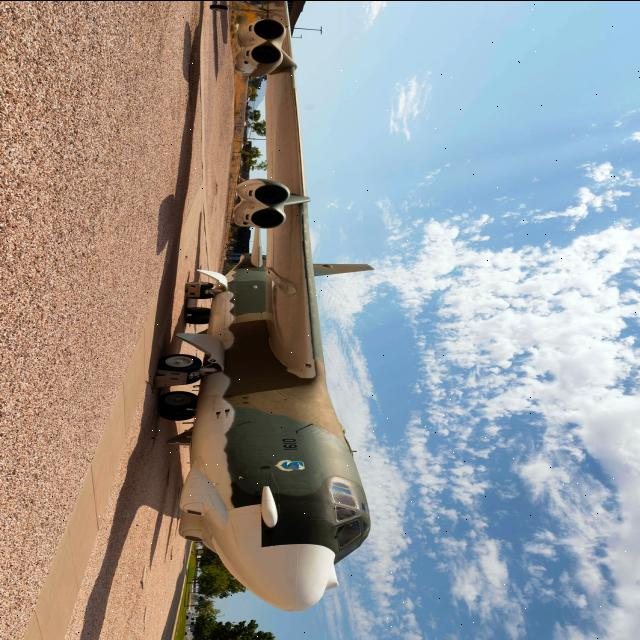B1: (125, 0, 418, 625)
